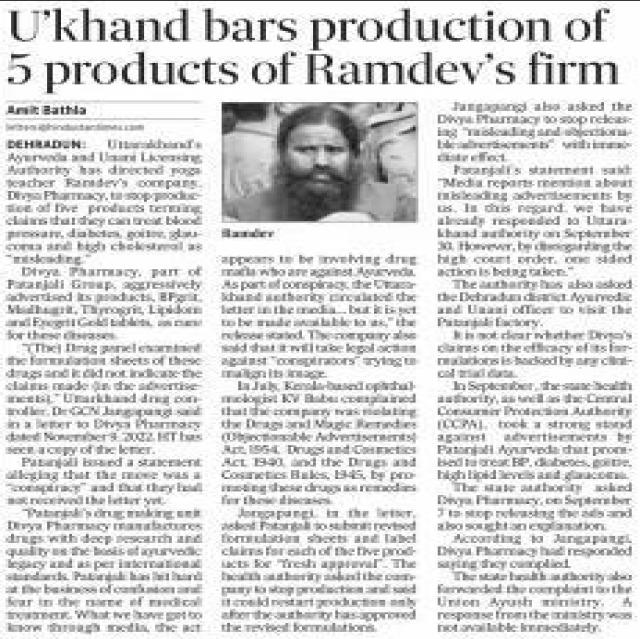paper: (0, 1, 640, 638)
